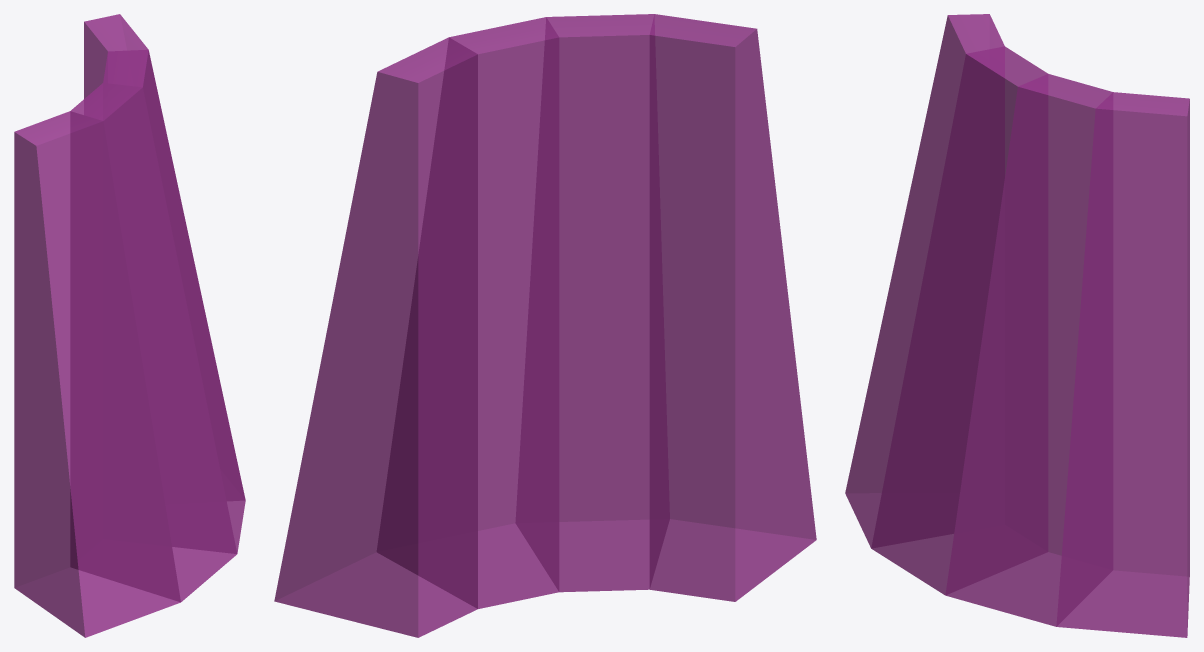
Rendered from SM_Bld_Wall_Fort_Top_Round_01_Collision.fbx.
3 renders of one model, left to right at view 1: azimuth 30°, elevation 25°; view 2: azimuth 150°, elevation 25°; view 3: azimuth 270°, elevation 25°, orthographic. The views are drawn at different scales.
Parts seen in each view (by area): view 1: SM_Bld_Wall_Fort_Top_Round_01_Collision; view 2: SM_Bld_Wall_Fort_Top_Round_01_Collision; view 3: SM_Bld_Wall_Fort_Top_Round_01_Collision.
Part boxes in pixels (box(x1,y1,x2,y2)): SM_Bld_Wall_Fort_Top_Round_01_Collision: box(14, 14, 245, 637); SM_Bld_Wall_Fort_Top_Round_01_Collision: box(274, 14, 816, 637); SM_Bld_Wall_Fort_Top_Round_01_Collision: box(845, 14, 1189, 637).
Bounding box in the file's own units: 395 × 604 × 395.
